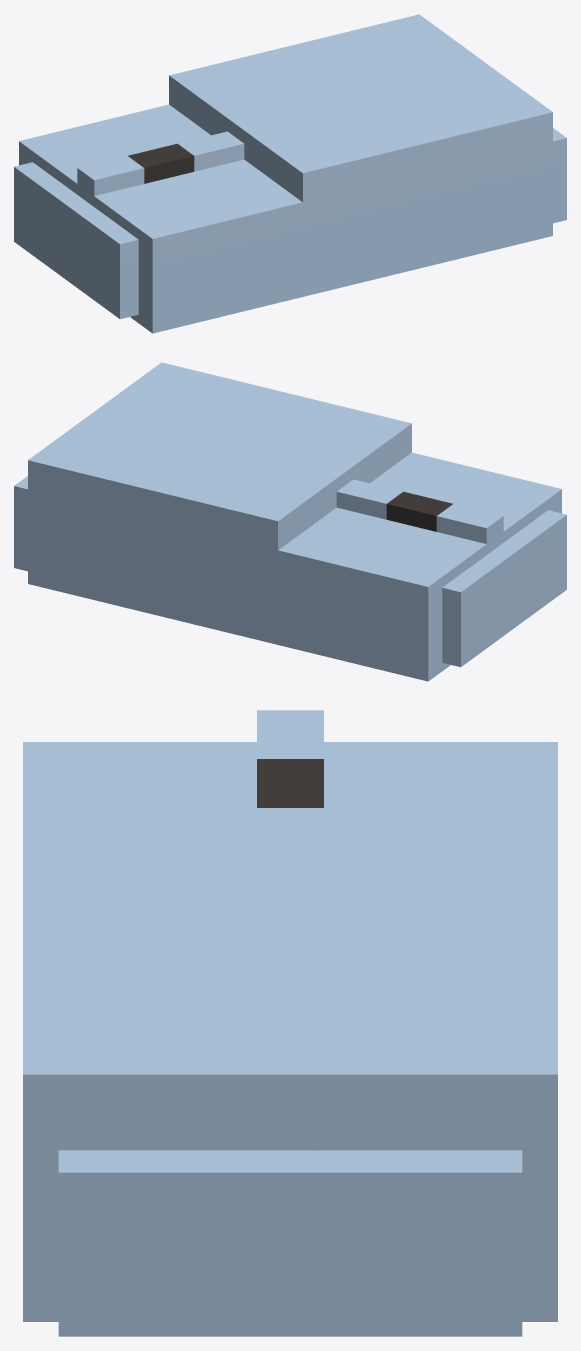
Rendered from Mouse.fbx.
The picture shows the model from 3 angles, top to bottom: view 1: azimuth 30°, elevation 25°; view 2: azimuth 150°, elevation 25°; view 3: azimuth 270°, elevation 25°; orthographic projection. The views are drawn at different scales.
Parts seen in each view (by area): view 1: Mouse; view 2: Mouse; view 3: Mouse.
Part boxes in pixels (left/top/right/bottom): Mouse: left=14, top=14, right=566, bottom=333; Mouse: left=14, top=362, right=566, bottom=681; Mouse: left=23, top=710, right=557, bottom=1336.
Bounding box in the file's own units: 19.98 × 5.34 × 10.47.
Materials: 1 (1 with a texture image).
